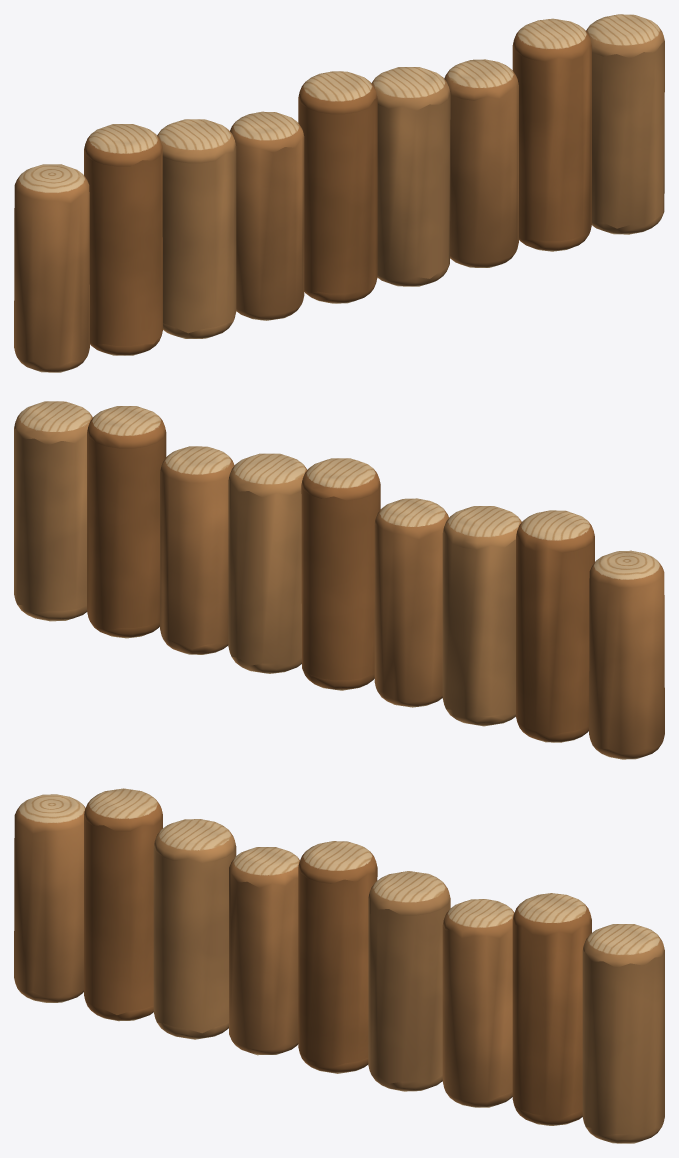
File: fence_log_x.glb
The picture shows the model from 3 angles, top to bottom: view 1: azimuth 30°, elevation 25°; view 2: azimuth 150°, elevation 25°; view 3: azimuth 330°, elevation 25°; orthographic projection.
Parts seen in each view (by area): view 1: flog; view 2: flog; view 3: flog.
Part boxes in pixels (x1=…): flog: x1=14, y1=14, x2=664, y2=372; flog: x1=14, y1=401, x2=664, y2=759; flog: x1=14, y1=788, x2=664, y2=1143.
Size of the model in its own units: 2.98 by 0.9404 by 0.3328.
1 material, 1 textured.
